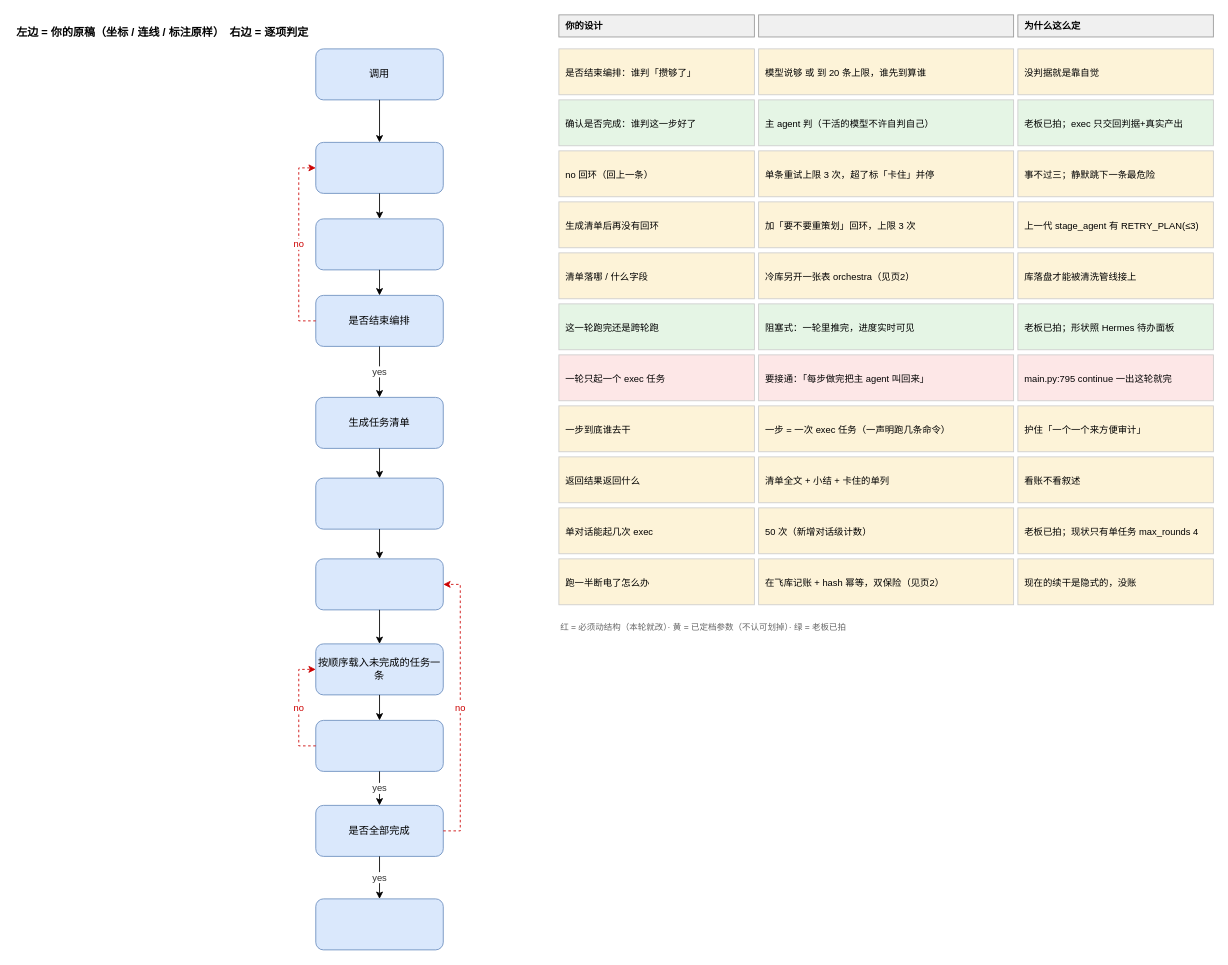
The diagram is 1228 pixels wide and 965 high, and some of its shapes have lost their labels. The box of each missing label's shape, as (x1, y1, x2, y2) in pixels:
循环开始: (315, 142, 443, 193)
我给的定法（判据 / 参数）: (758, 14, 1014, 37)
执行序列: (315, 558, 443, 610)
确认是否完成: (315, 720, 443, 771)
获取任务单条: (315, 218, 443, 270)
载入清单: (315, 477, 443, 529)
返回结果: (315, 898, 443, 950)
